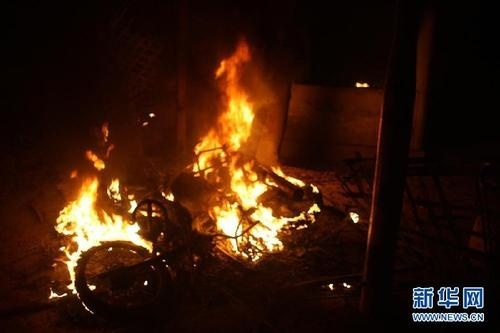fire: (190, 37, 322, 259), (50, 128, 159, 294)
